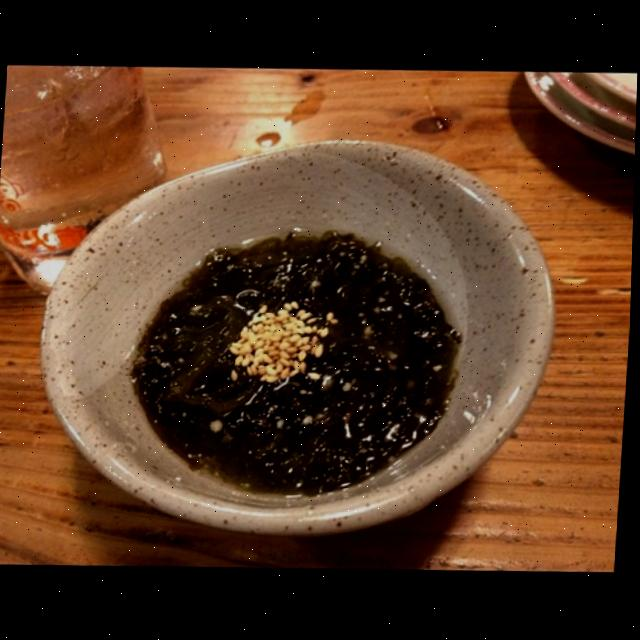蔬菜料理: (18, 111, 581, 566)
